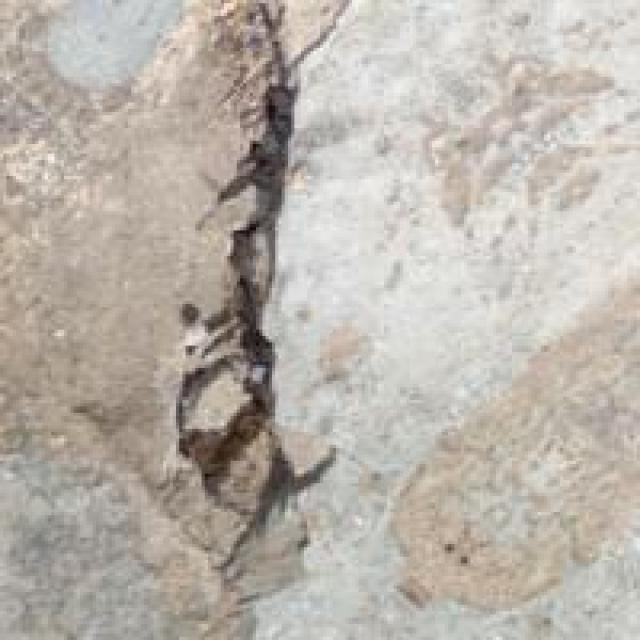crack: (153, 0, 419, 630)
